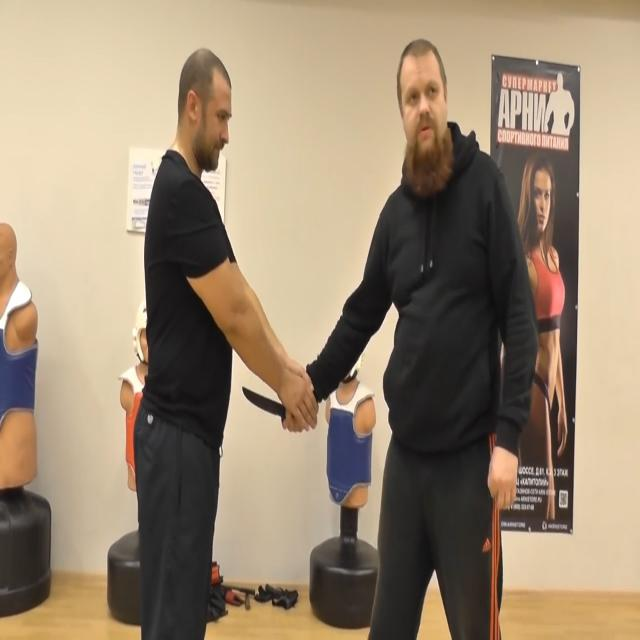knife: (239, 381, 289, 425)
